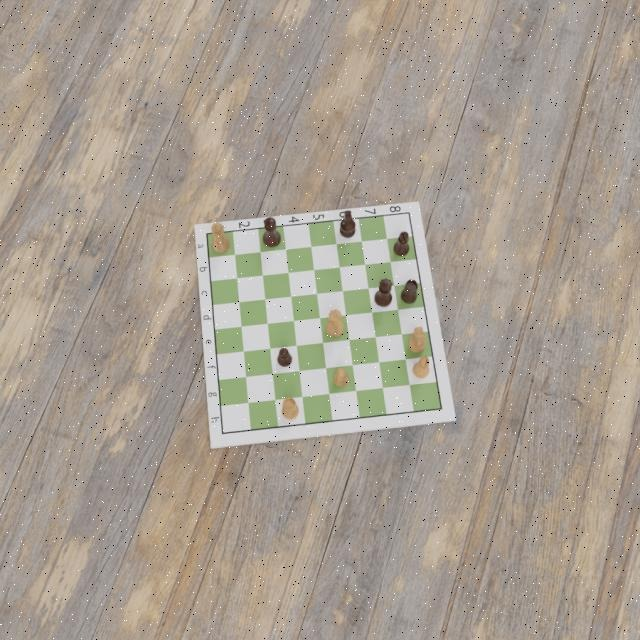black-bishop: (393, 231, 411, 257)
black-king: (262, 215, 282, 248)
black-knight: (339, 210, 357, 238)
black-pawn: (275, 346, 293, 368)
black-queen: (375, 278, 393, 308)
black-rook: (400, 279, 420, 305)
white-bishop: (411, 354, 430, 380)
white-king: (211, 221, 231, 254)
white-knight: (407, 325, 427, 355)
white-pawn: (332, 367, 350, 389)
white-queen: (325, 309, 347, 339)
white-rook: (280, 396, 300, 419)
